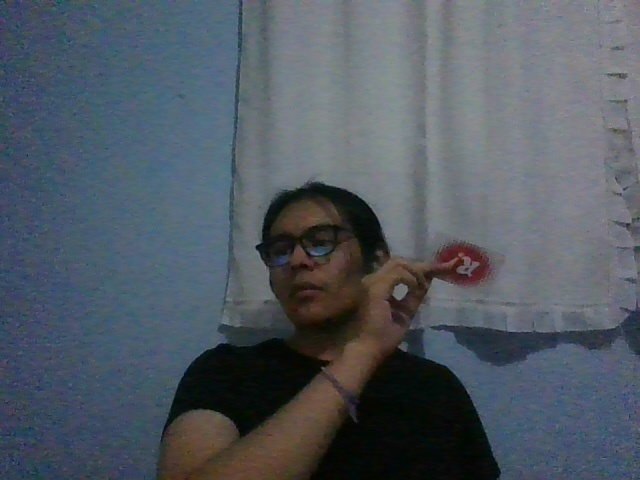tarjeta: (423, 232, 506, 293)
